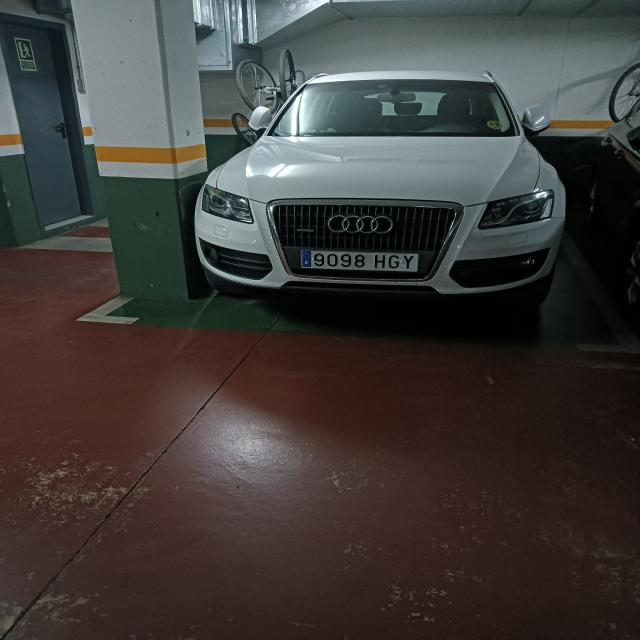license_plate-34Td: (300, 250, 419, 273)
